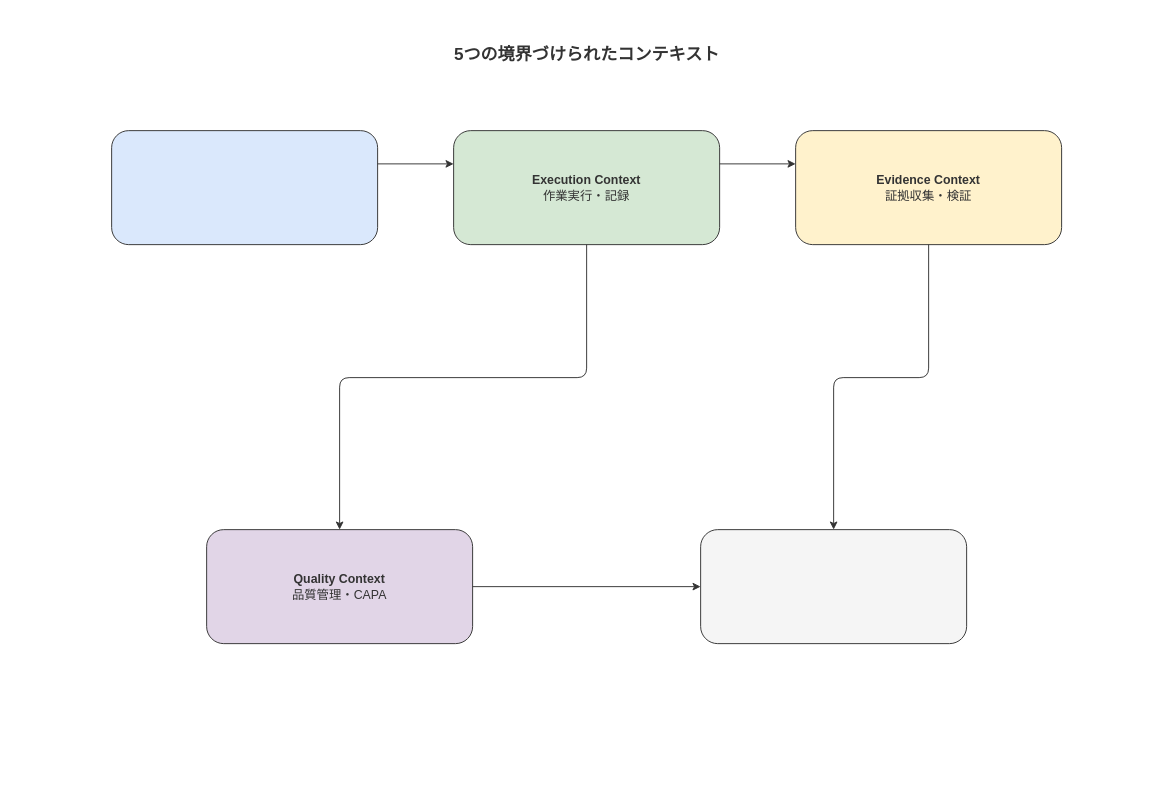
This 1172x792 diagram has some shape labels left out. Here are the shapes that lost their labels. From the top down, the centre of each, then its label:
the point at 244,187: Authoring Context SOP作成・承認
the point at 833,586: Integration Context 外部連携・同期
